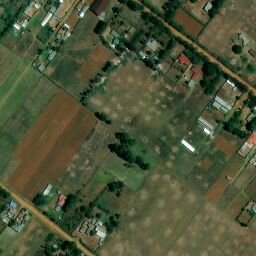tree: (232, 45, 242, 54), (100, 113, 107, 122), (128, 139, 136, 146), (96, 213, 102, 219), (95, 75, 100, 82)
